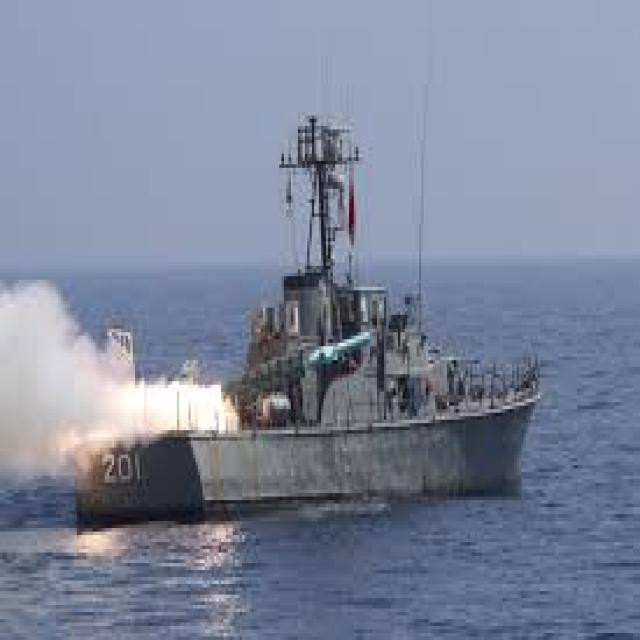navalvessels: (58, 121, 540, 533)
